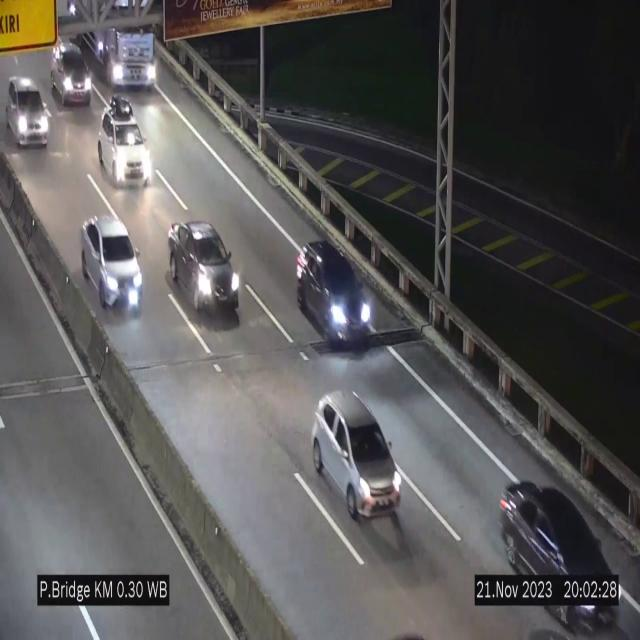Car: (490, 451, 619, 640), (313, 392, 402, 520), (294, 237, 373, 351), (168, 222, 241, 324), (82, 215, 143, 308), (96, 94, 151, 190), (7, 72, 51, 153), (51, 42, 91, 106)
Truck: (76, 1, 166, 86)
